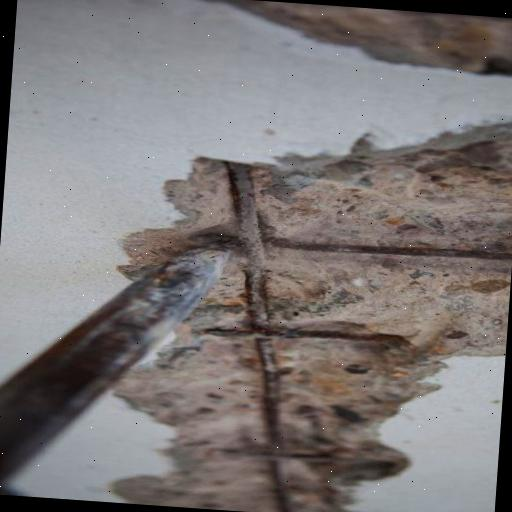spalling: (155, 140, 499, 512)
